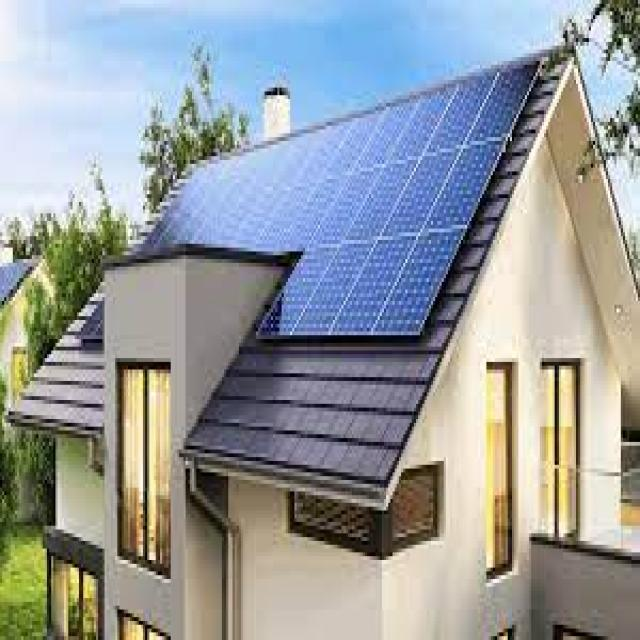clean-solar-panel: (146, 61, 539, 337)
